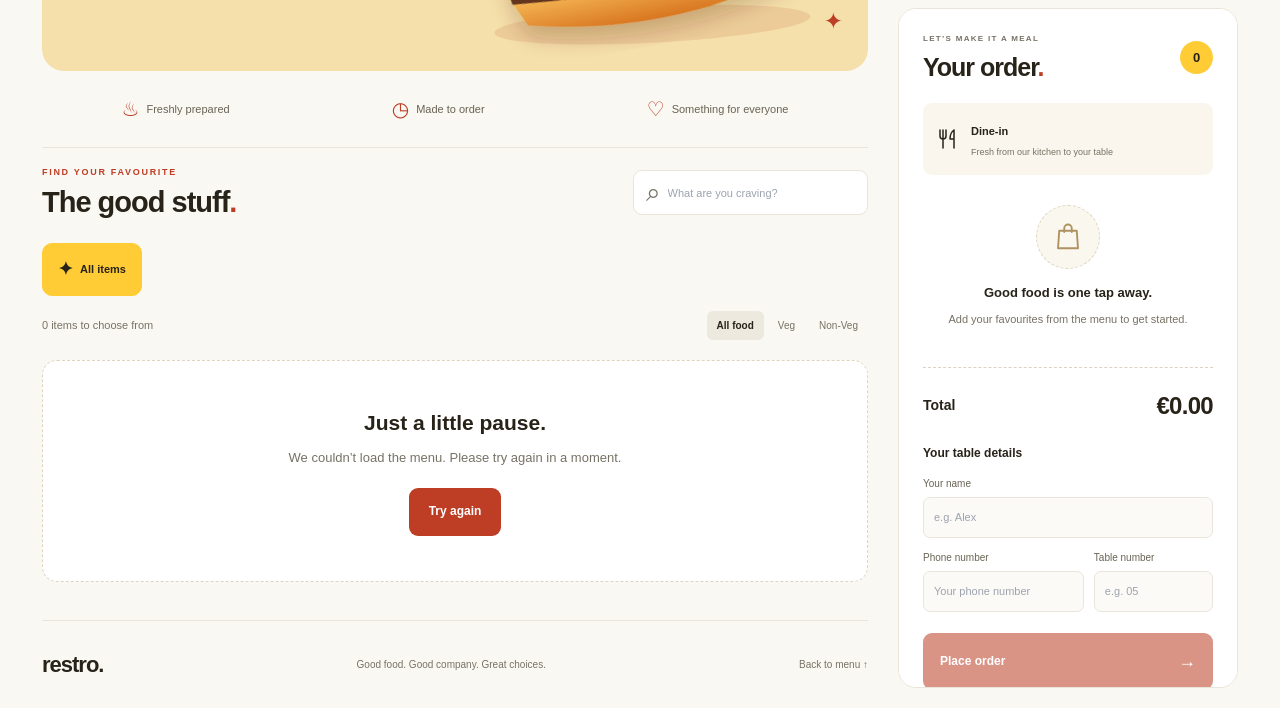
it: retries loading after an API error
(page scrolled)
Expected: the message shows "We couldn’t load the menu", [288, 450, 621, 465]
Step 1. Click the button "Try again" → [455, 512], box [409, 488, 501, 536]
(page scrolled)
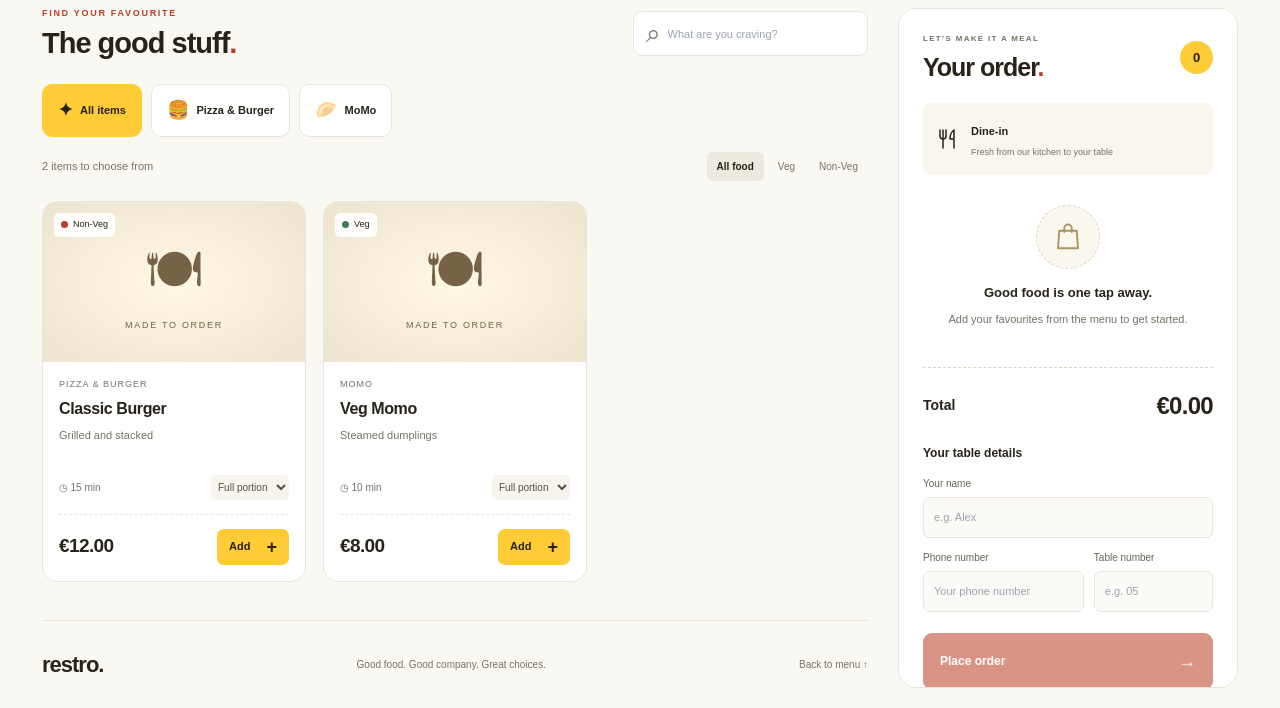
Expected: the button with aria-label "Add Classic Burger, full portion" is shown, [217, 529, 289, 565]
